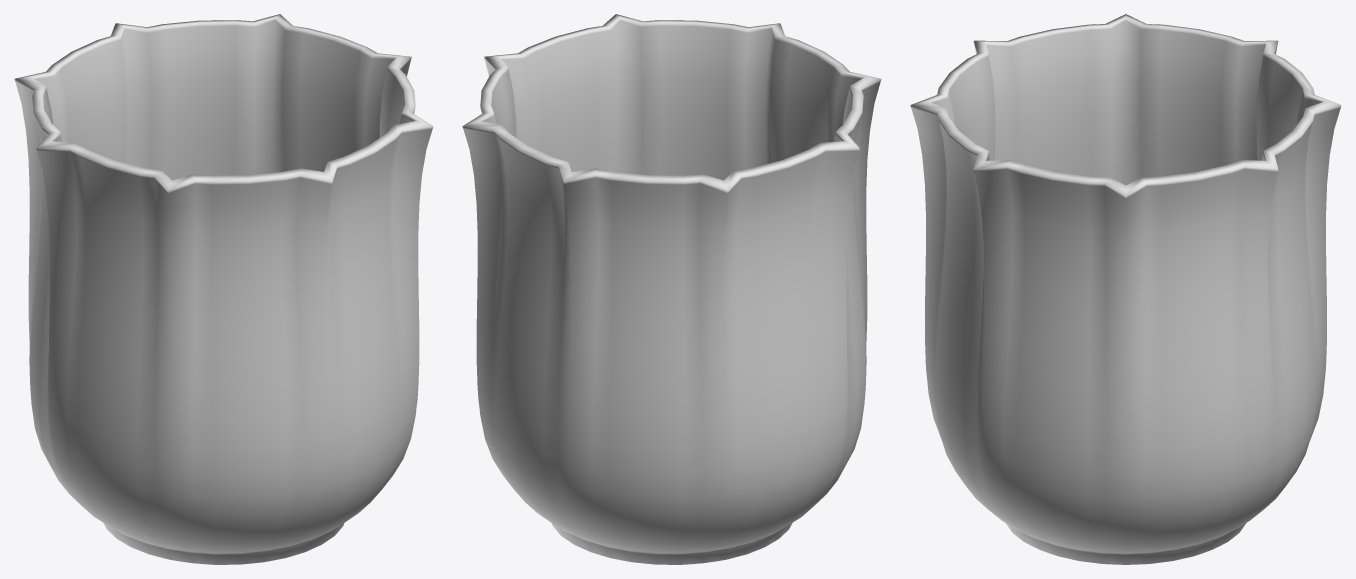
File: GlassOfWhisky-modelonly-baked.fbx
3 renders of one model, left to right at view 1: azimuth 30°, elevation 25°; view 2: azimuth 150°, elevation 25°; view 3: azimuth 270°, elevation 25°, orthographic.
Parts seen in each view (by area): view 1: glass; view 2: glass; view 3: glass.
Boxes of the visible parts, left/top/right/bottom form: glass: left=14, top=14, right=433, bottom=564; glass: left=462, top=14, right=881, bottom=564; glass: left=910, top=14, right=1341, bottom=564.
Bounding box in the file's own units: 407 × 429 × 407.
